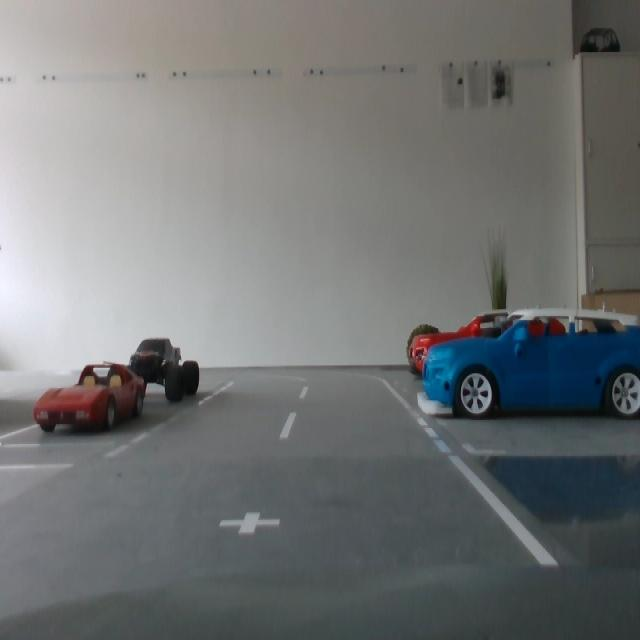car: (422, 308, 640, 420), (412, 314, 636, 407), (33, 361, 147, 433), (124, 338, 203, 406)
potted plant: (480, 228, 510, 363), (407, 325, 445, 375)
